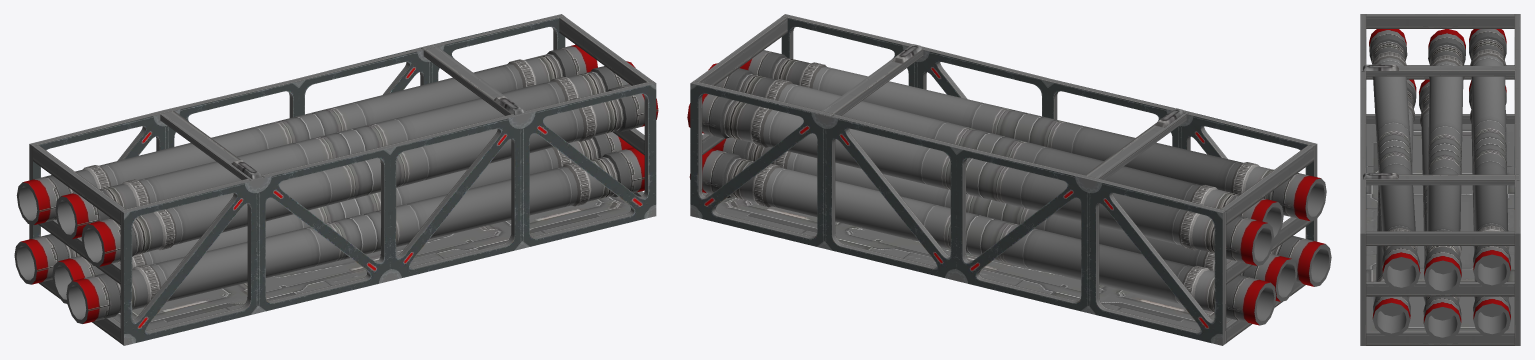
Rendered from fut-tubulacao.gltf.
3 renders of one model, left to right at view 1: azimuth 30°, elevation 25°; view 2: azimuth 150°, elevation 25°; view 3: azimuth 270°, elevation 25°, orthographic. The views are drawn at different scales.
Visible parts, largest first — view 1: Prop_PipeHolder; view 2: Prop_PipeHolder; view 3: Prop_PipeHolder.
Boxes of the visible parts, bbox=[...] form: Prop_PipeHolder: bbox=[14, 14, 658, 345]; Prop_PipeHolder: bbox=[687, 14, 1331, 345]; Prop_PipeHolder: bbox=[1360, 14, 1520, 345].
Size of the model in its own units: 2.06 by 0.4636 by 0.5808.
Materials: 3 (3 with a texture image).
